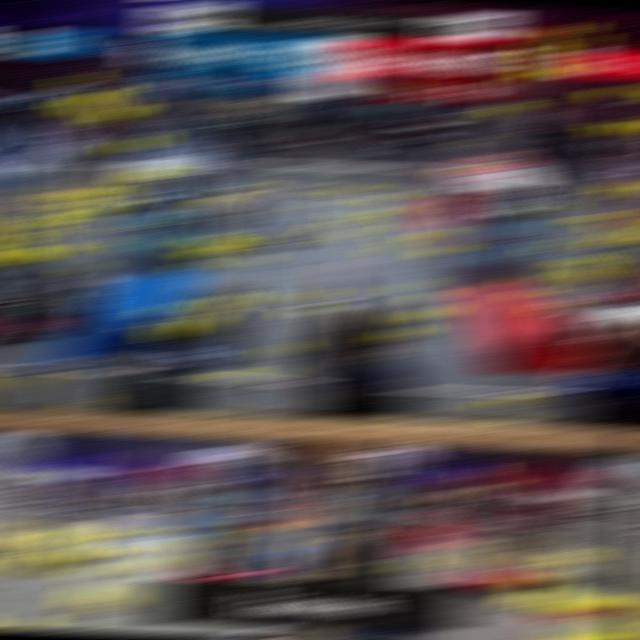ball_airborne: (110, 139, 144, 153), (100, 108, 134, 122), (467, 466, 498, 481), (555, 26, 587, 40), (61, 75, 93, 89), (59, 97, 90, 110), (589, 86, 620, 99), (536, 24, 566, 37), (600, 85, 630, 98), (128, 136, 160, 148), (69, 102, 101, 114), (84, 102, 116, 114), (95, 88, 126, 100), (108, 105, 139, 117), (593, 119, 624, 131), (144, 168, 174, 180), (92, 112, 122, 124), (500, 104, 530, 116), (599, 123, 630, 134), (552, 67, 582, 78), (79, 91, 111, 101), (491, 104, 521, 114), (569, 38, 599, 48), (134, 166, 164, 176), (603, 180, 632, 190), (616, 119, 640, 131), (614, 183, 640, 194), (433, 493, 461, 502), (509, 72, 537, 81), (446, 167, 473, 176), (126, 174, 156, 182), (72, 92, 102, 100), (526, 40, 554, 46)
ball_ground: (518, 588, 550, 602), (509, 274, 540, 287), (390, 328, 420, 340), (148, 304, 178, 316), (73, 400, 104, 410), (581, 274, 611, 284), (399, 282, 428, 292), (541, 300, 570, 310), (85, 549, 114, 559), (266, 290, 294, 300), (417, 291, 445, 301), (526, 574, 554, 584), (70, 265, 98, 274), (234, 260, 262, 269), (565, 256, 594, 264), (532, 245, 560, 253), (558, 258, 586, 266), (380, 194, 408, 202), (79, 554, 107, 562), (369, 210, 396, 218), (533, 558, 560, 566), (124, 546, 151, 554), (380, 208, 408, 215), (538, 208, 566, 215), (415, 233, 442, 240), (388, 212, 415, 219), (392, 220, 419, 227), (560, 236, 587, 243), (348, 212, 376, 218), (85, 212, 112, 218), (267, 372, 293, 377)
goal: (462, 128, 540, 168)
robot_blue: (162, 282, 252, 374), (193, 190, 260, 240)
robot_red: (175, 515, 294, 591), (3, 262, 96, 340), (454, 522, 532, 591), (588, 231, 640, 301)
